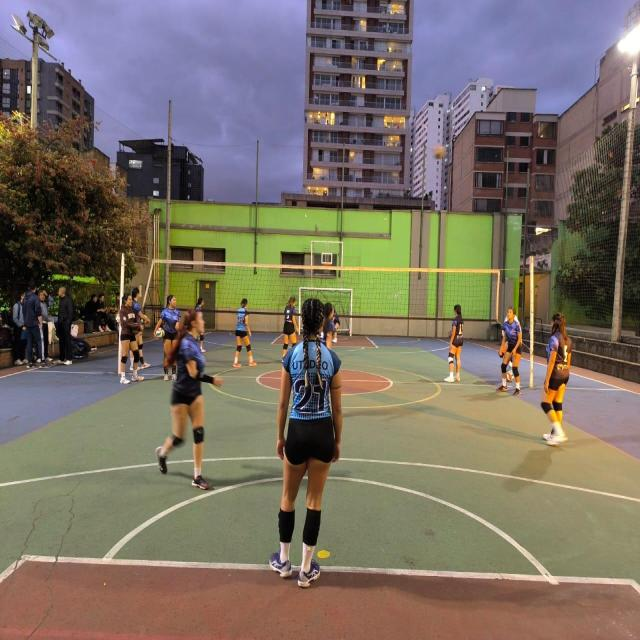volleyball: (433, 146, 445, 159), (156, 327, 164, 339), (506, 372, 514, 383)
